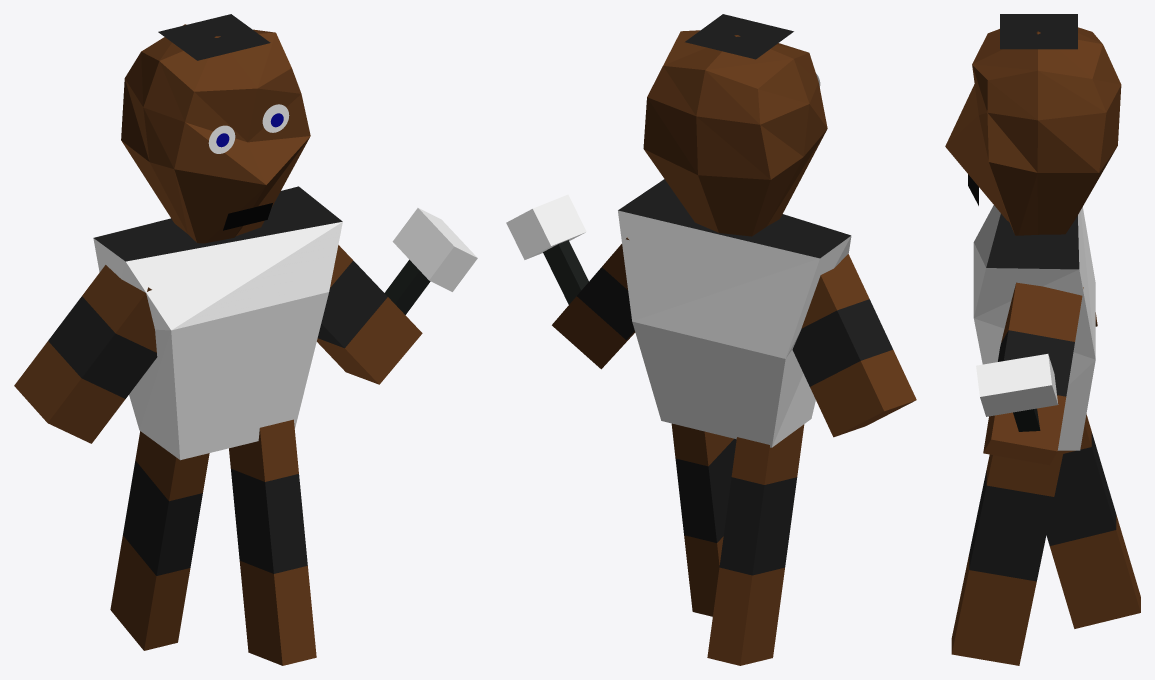
File: slave2.obj
3 views of the same model, side by side, from view 1: azimuth 30°, elevation 25°; view 2: azimuth 150°, elevation 25°; view 3: azimuth 270°, elevation 25° (orthographic). The views are drawn at different scales.
Visible parts, largest first — view 1: Cube.001, Cube, Cube.005, Cube.003, Cube.004, Cube.002, Cube.008, Plane.002, Cube.007, Plane; view 2: Cube.001, Cube, Cube.004, Cube.003, Cube.005, Cube.002, Cube.008, Plane.002, Cube.007; view 3: Cube, Cube.005, Cube.001, Cube.004, Cube.002, Cube.008, Plane.002, Cube.007.
Boxes of the visible parts, x1=… form: Cube.001: x1=93, y1=186, x2=342, y2=460; Cube: x1=121, y1=24, x2=310, y2=243; Cube.005: x1=229, y1=419, x2=316, y2=665; Cube.003: x1=14, y1=265, x2=157, y2=443; Cube.004: x1=110, y1=431, x2=209, y2=650; Cube.002: x1=317, y1=245, x2=422, y2=384; Cube.008: x1=392, y1=208, x2=477, y2=291; Plane.002: x1=158, y1=14, x2=270, y2=60; Cube.007: x1=384, y1=259, x2=430, y2=314; Plane: x1=223, y1=203, x2=272, y2=230; Cube.001: x1=618, y1=179, x2=851, y2=447; Cube: x1=643, y1=30, x2=827, y2=236; Cube.004: x1=707, y1=424, x2=804, y2=665; Cube.003: x1=792, y1=254, x2=916, y2=437; Cube.005: x1=671, y1=423, x2=736, y2=616; Cube.002: x1=552, y1=237, x2=635, y2=369; Cube.008: x1=506, y1=194, x2=586, y2=259; Plane.002: x1=685, y1=14, x2=793, y2=59; Cube.007: x1=543, y1=240, x2=588, y2=304; Cube: x1=945, y1=27, x2=1121, y2=235; Cube.005: x1=951, y1=450, x2=1063, y2=665; Cube.001: x1=973, y1=205, x2=1095, y2=450; Cube.004: x1=1046, y1=414, x2=1140, y2=628; Cube.002: x1=983, y1=282, x2=1083, y2=465; Cube.008: x1=976, y1=354, x2=1058, y2=416; Plane.002: x1=1000, y1=14, x2=1077, y2=49; Cube.007: x1=1013, y1=408, x2=1040, y2=431.
Size of the model in its own units: 4.16 by 5.98 by 1.75.
